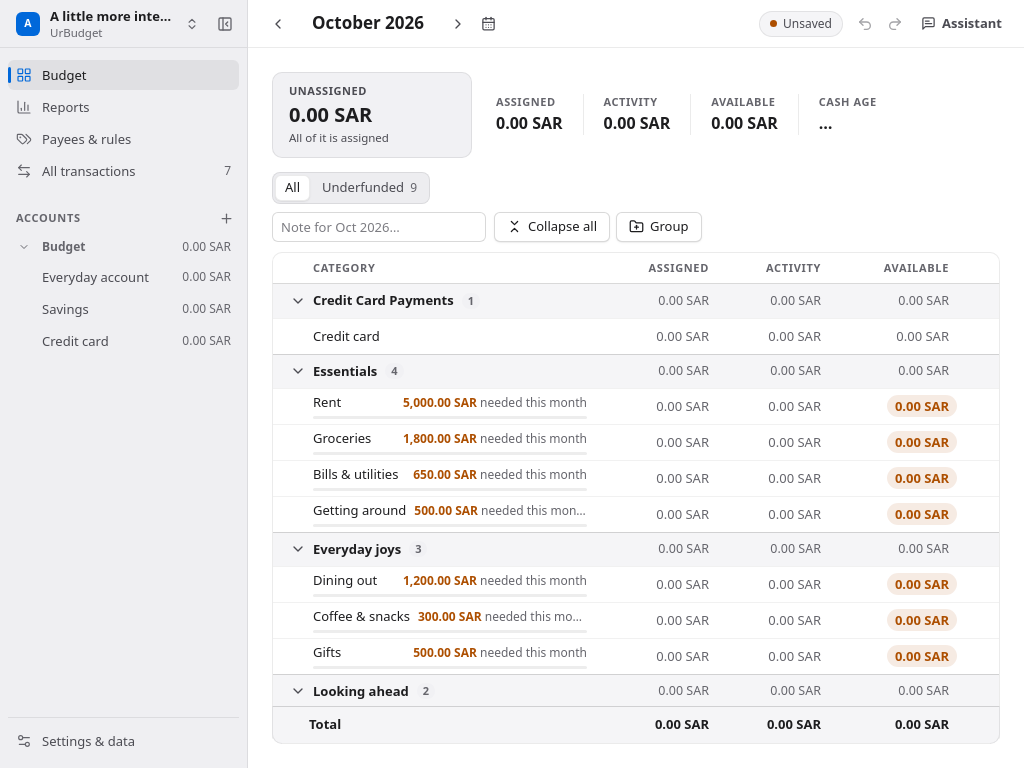
Scenario: keeps an inline draft's repeat through More options, then saves monthly
Step 1. Click the button "All transactions 7" → click(124, 171), box top-left (8, 156), bottom-right (239, 186)
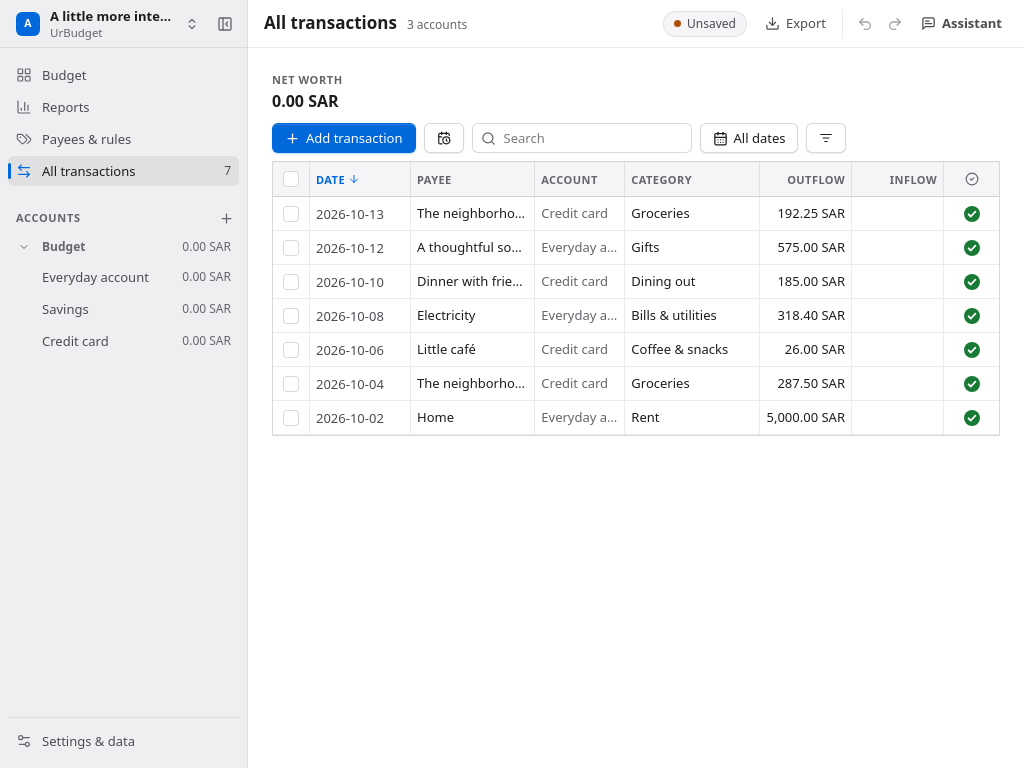
Step 2. Click the button "Add transaction" → click(344, 138), box top-left (272, 123), bottom-right (416, 153)
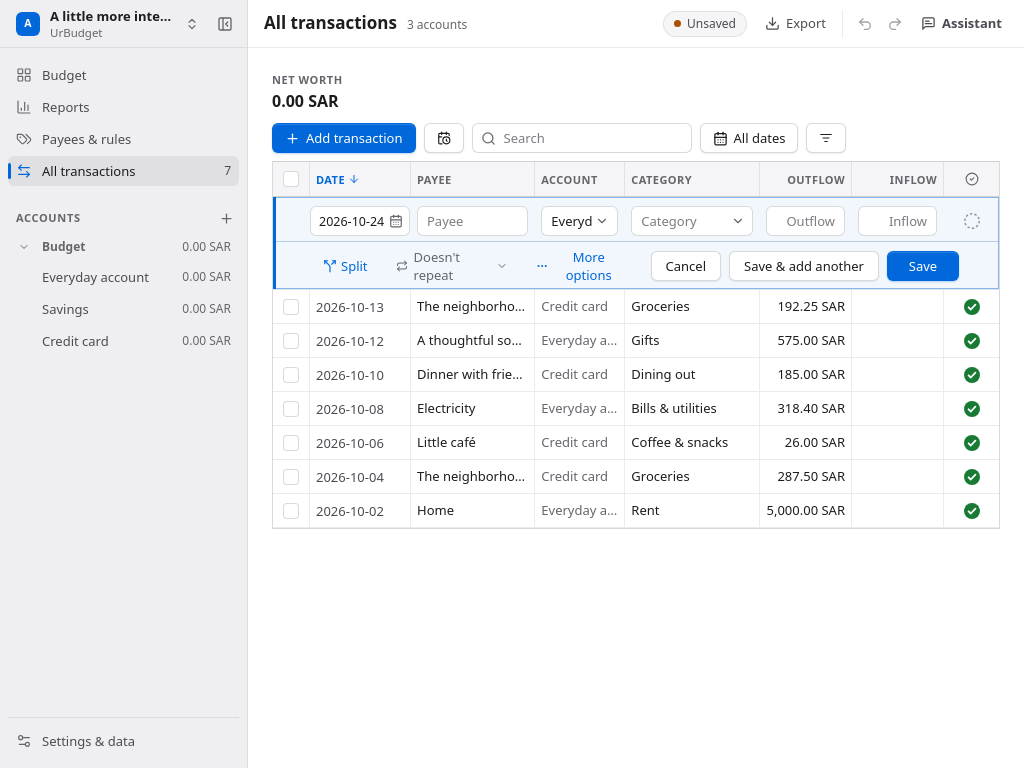
Step 3. Replace the text in the field named "Date" with "2999-01-15" → (360, 221), box top-left (310, 206), bottom-right (410, 236)
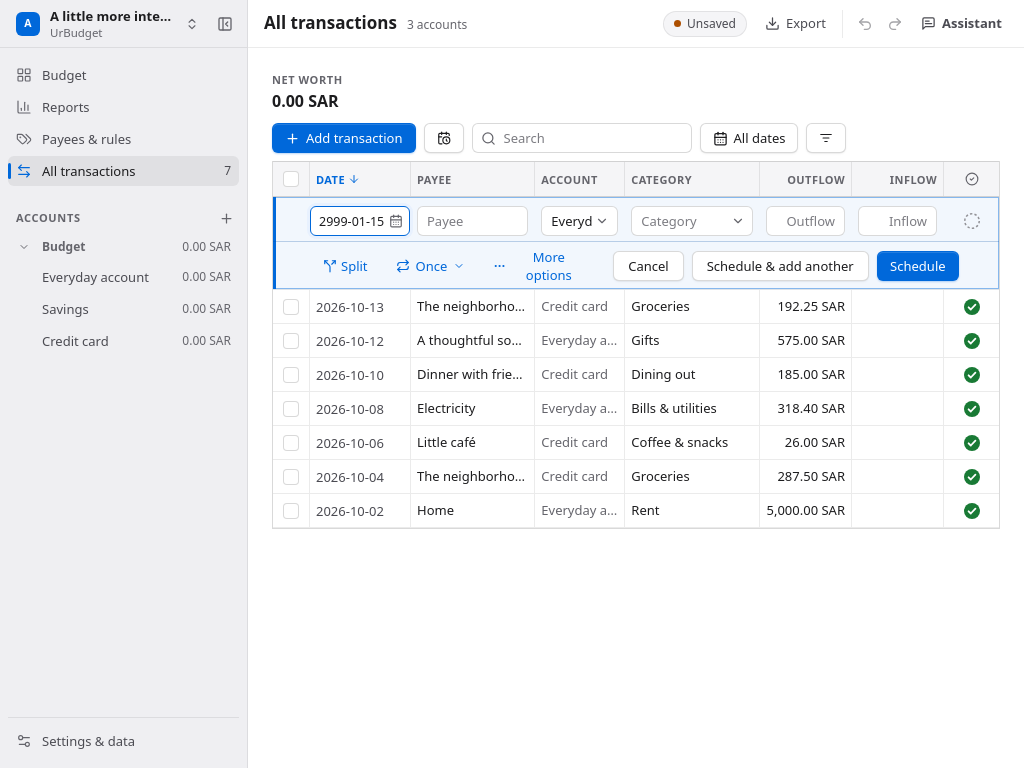
Step 4. Type "25" into the field labelled "Inflow" → (898, 221), box top-left (858, 206), bottom-right (937, 236)
Step 5. Select "Monthly" in the dropdown named "Repeat" → (430, 266), box top-left (386, 251), bottom-right (475, 281)
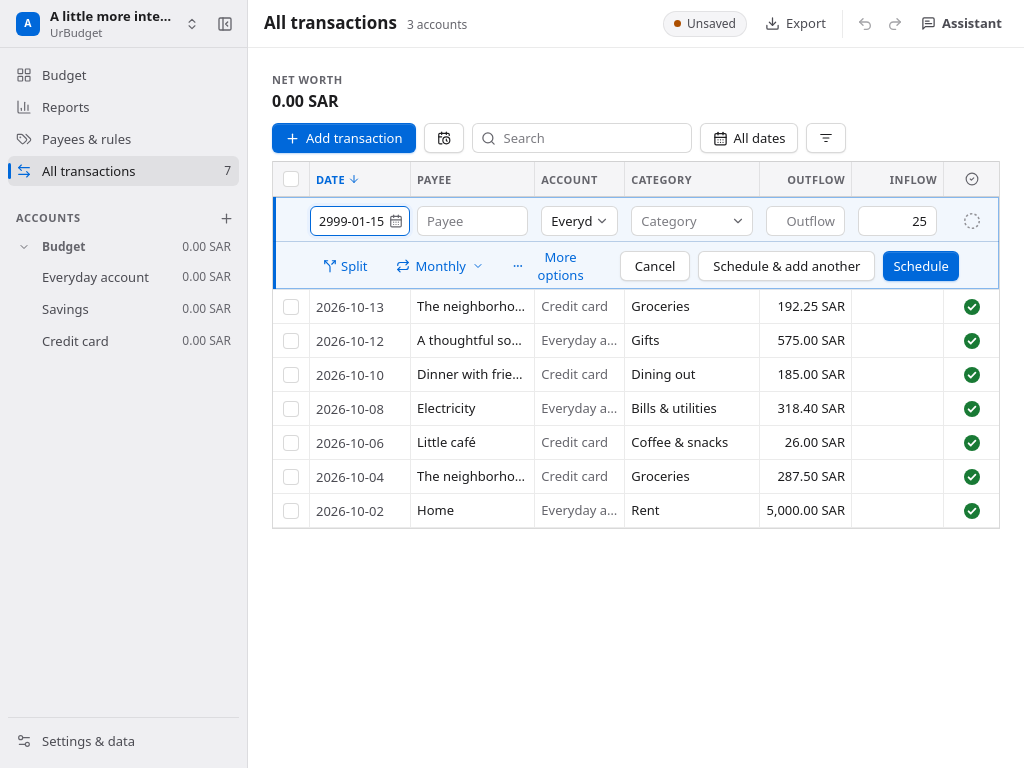
Step 6. Click the button "More options" → click(553, 266), box top-left (502, 251), bottom-right (604, 281)
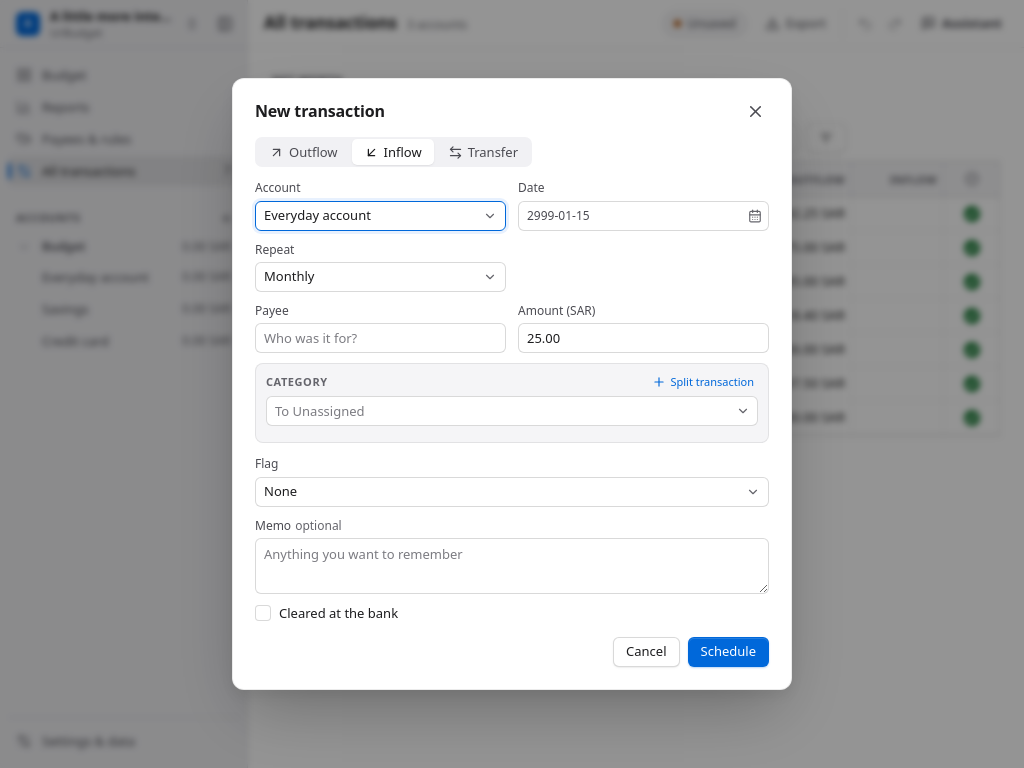
Expected: the dropdown labelled "Repeat" shows "Monthly", top-left (255, 262), bottom-right (506, 292)
Step 7. Click the button "Schedule" → click(728, 652), box top-left (688, 637), bottom-right (769, 667)
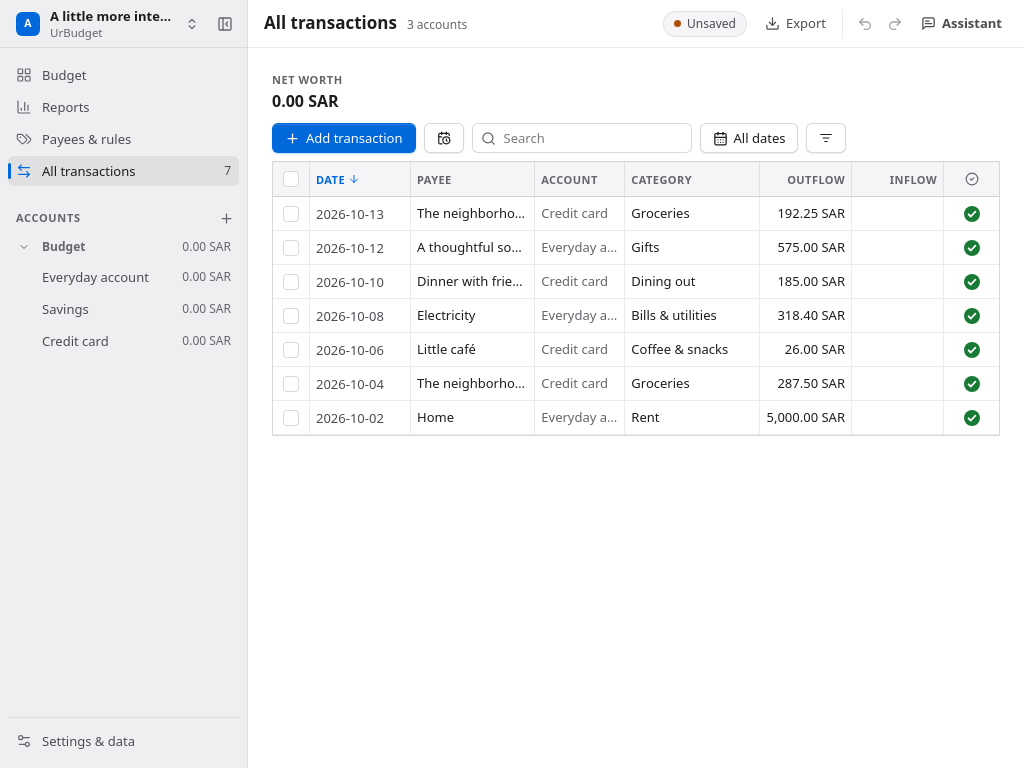
Expected: the heading "New transaction" is gone
